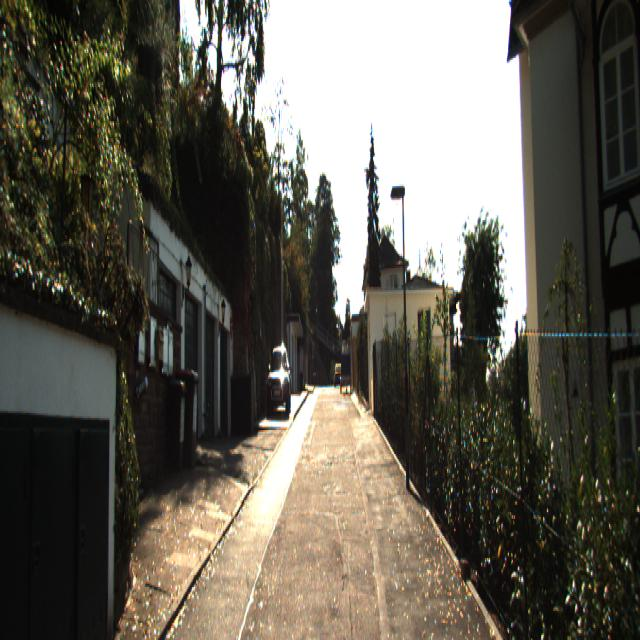Car: (268, 342, 290, 412), (340, 350, 352, 394)
